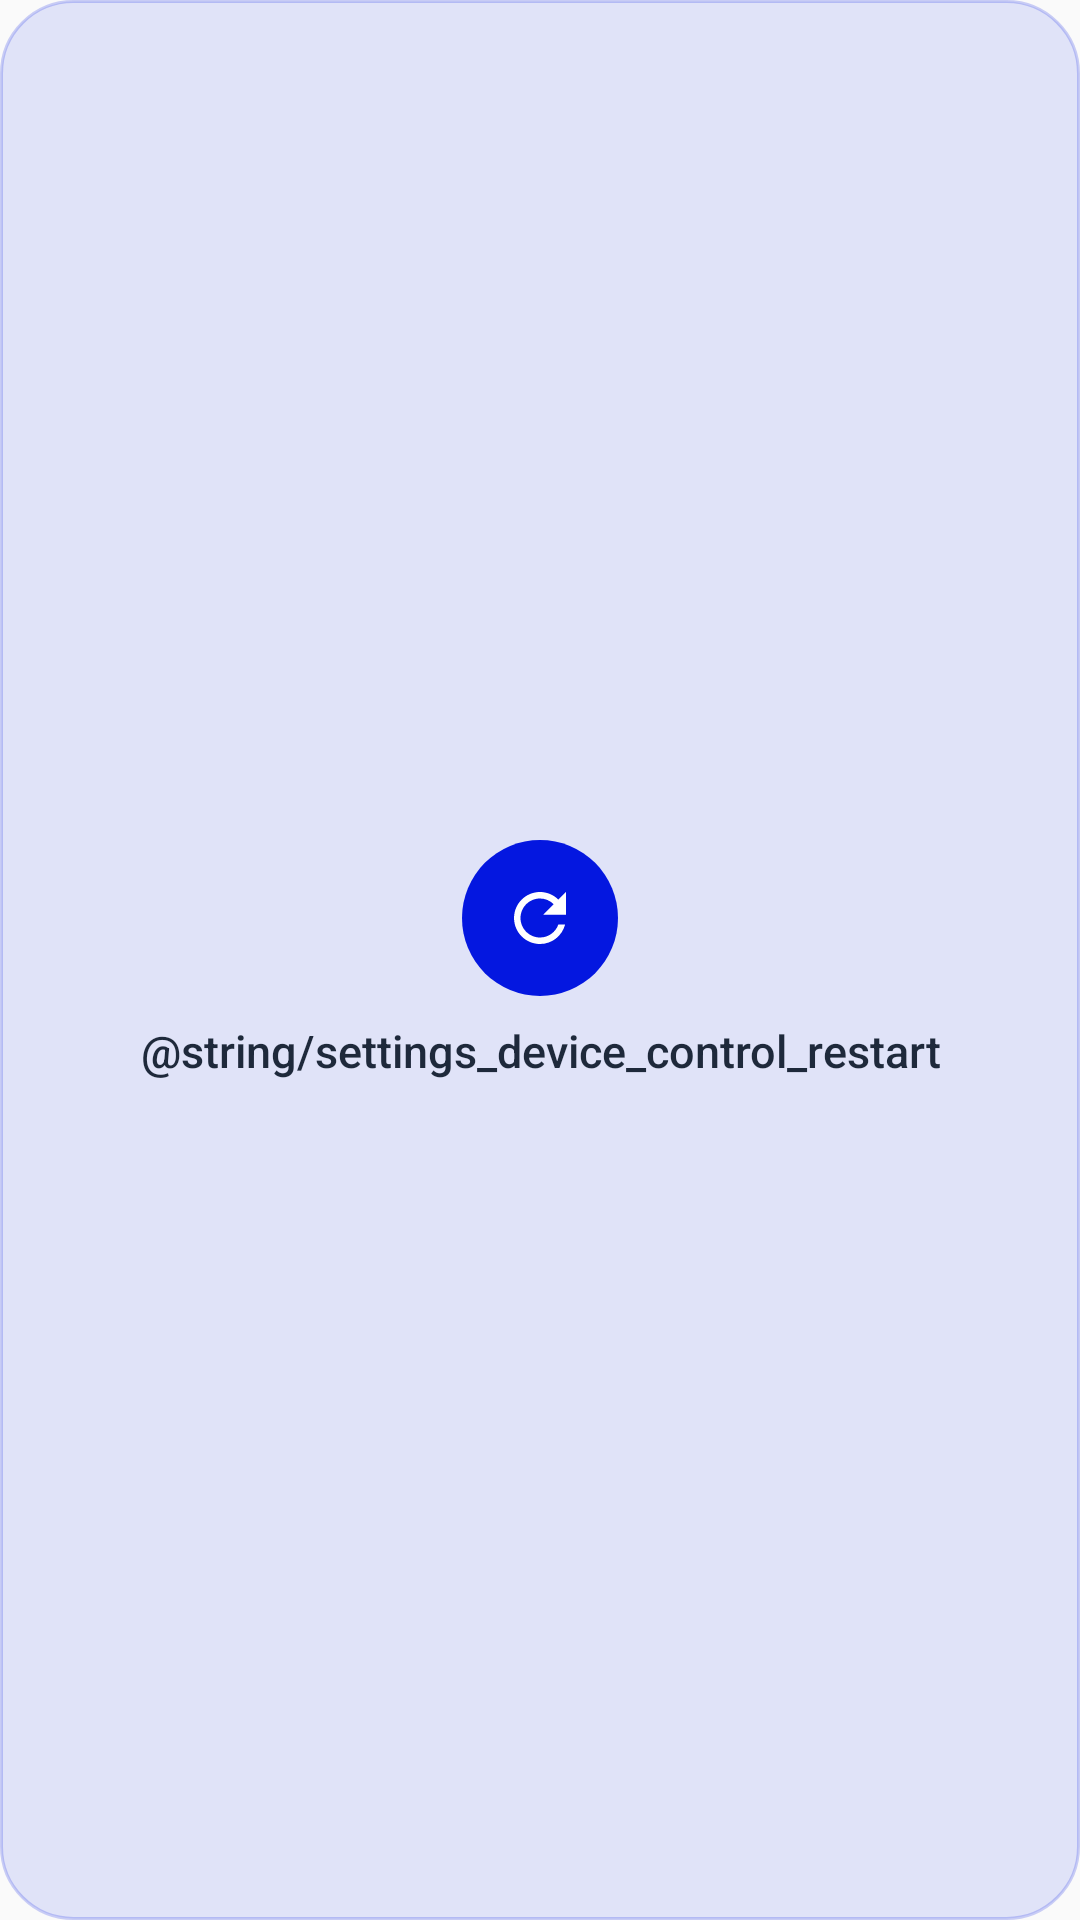

Icon click points for this 1080 × 1920 phone screenshot, format (x,y):
widget action restart: (540,918)
